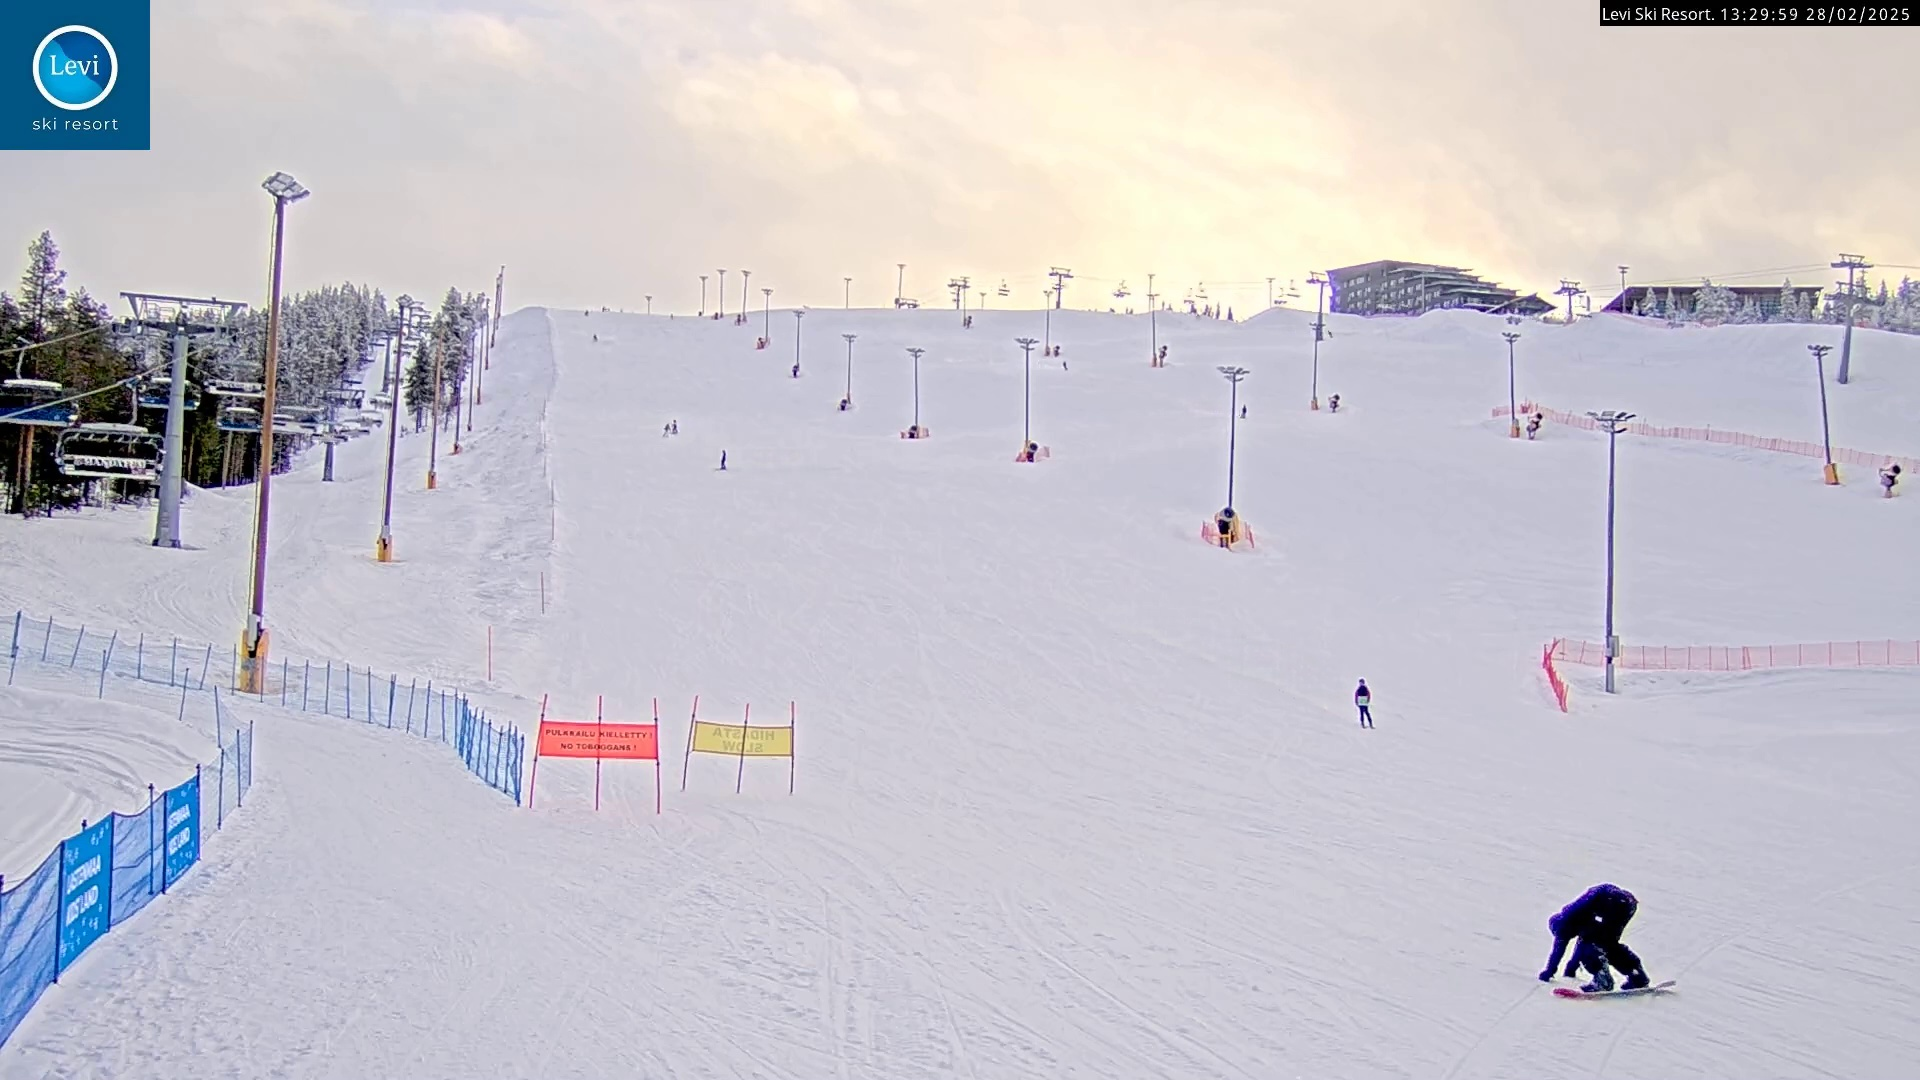snowboarder: (1539, 882, 1680, 997)
